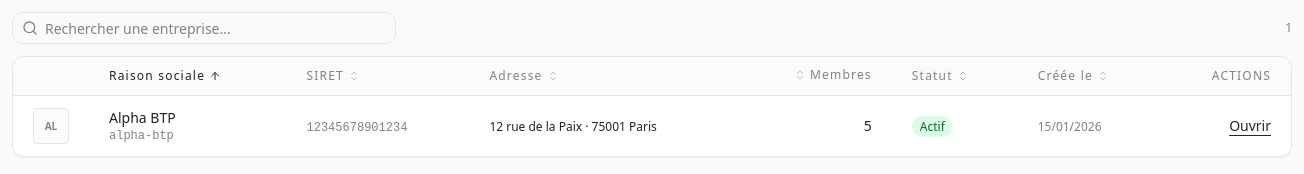
EntreprisesTable › recherche › aucun résultat affiche le message dédié
Type "zzz" into the search field labelled "Rechercher" at (204, 28), box [12,12,396,44]
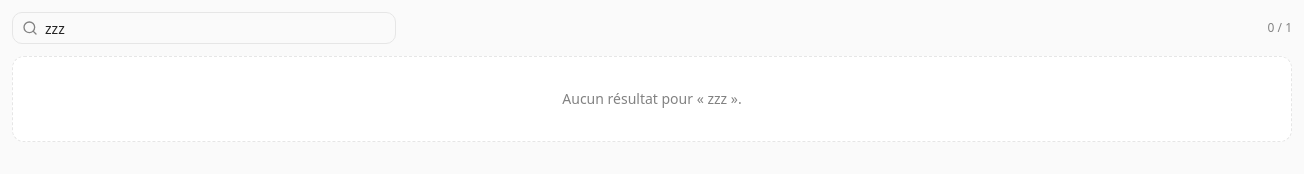
Result: the text "Aucun résultat pour « zzz »." is shown at [12,56,1292,142]
